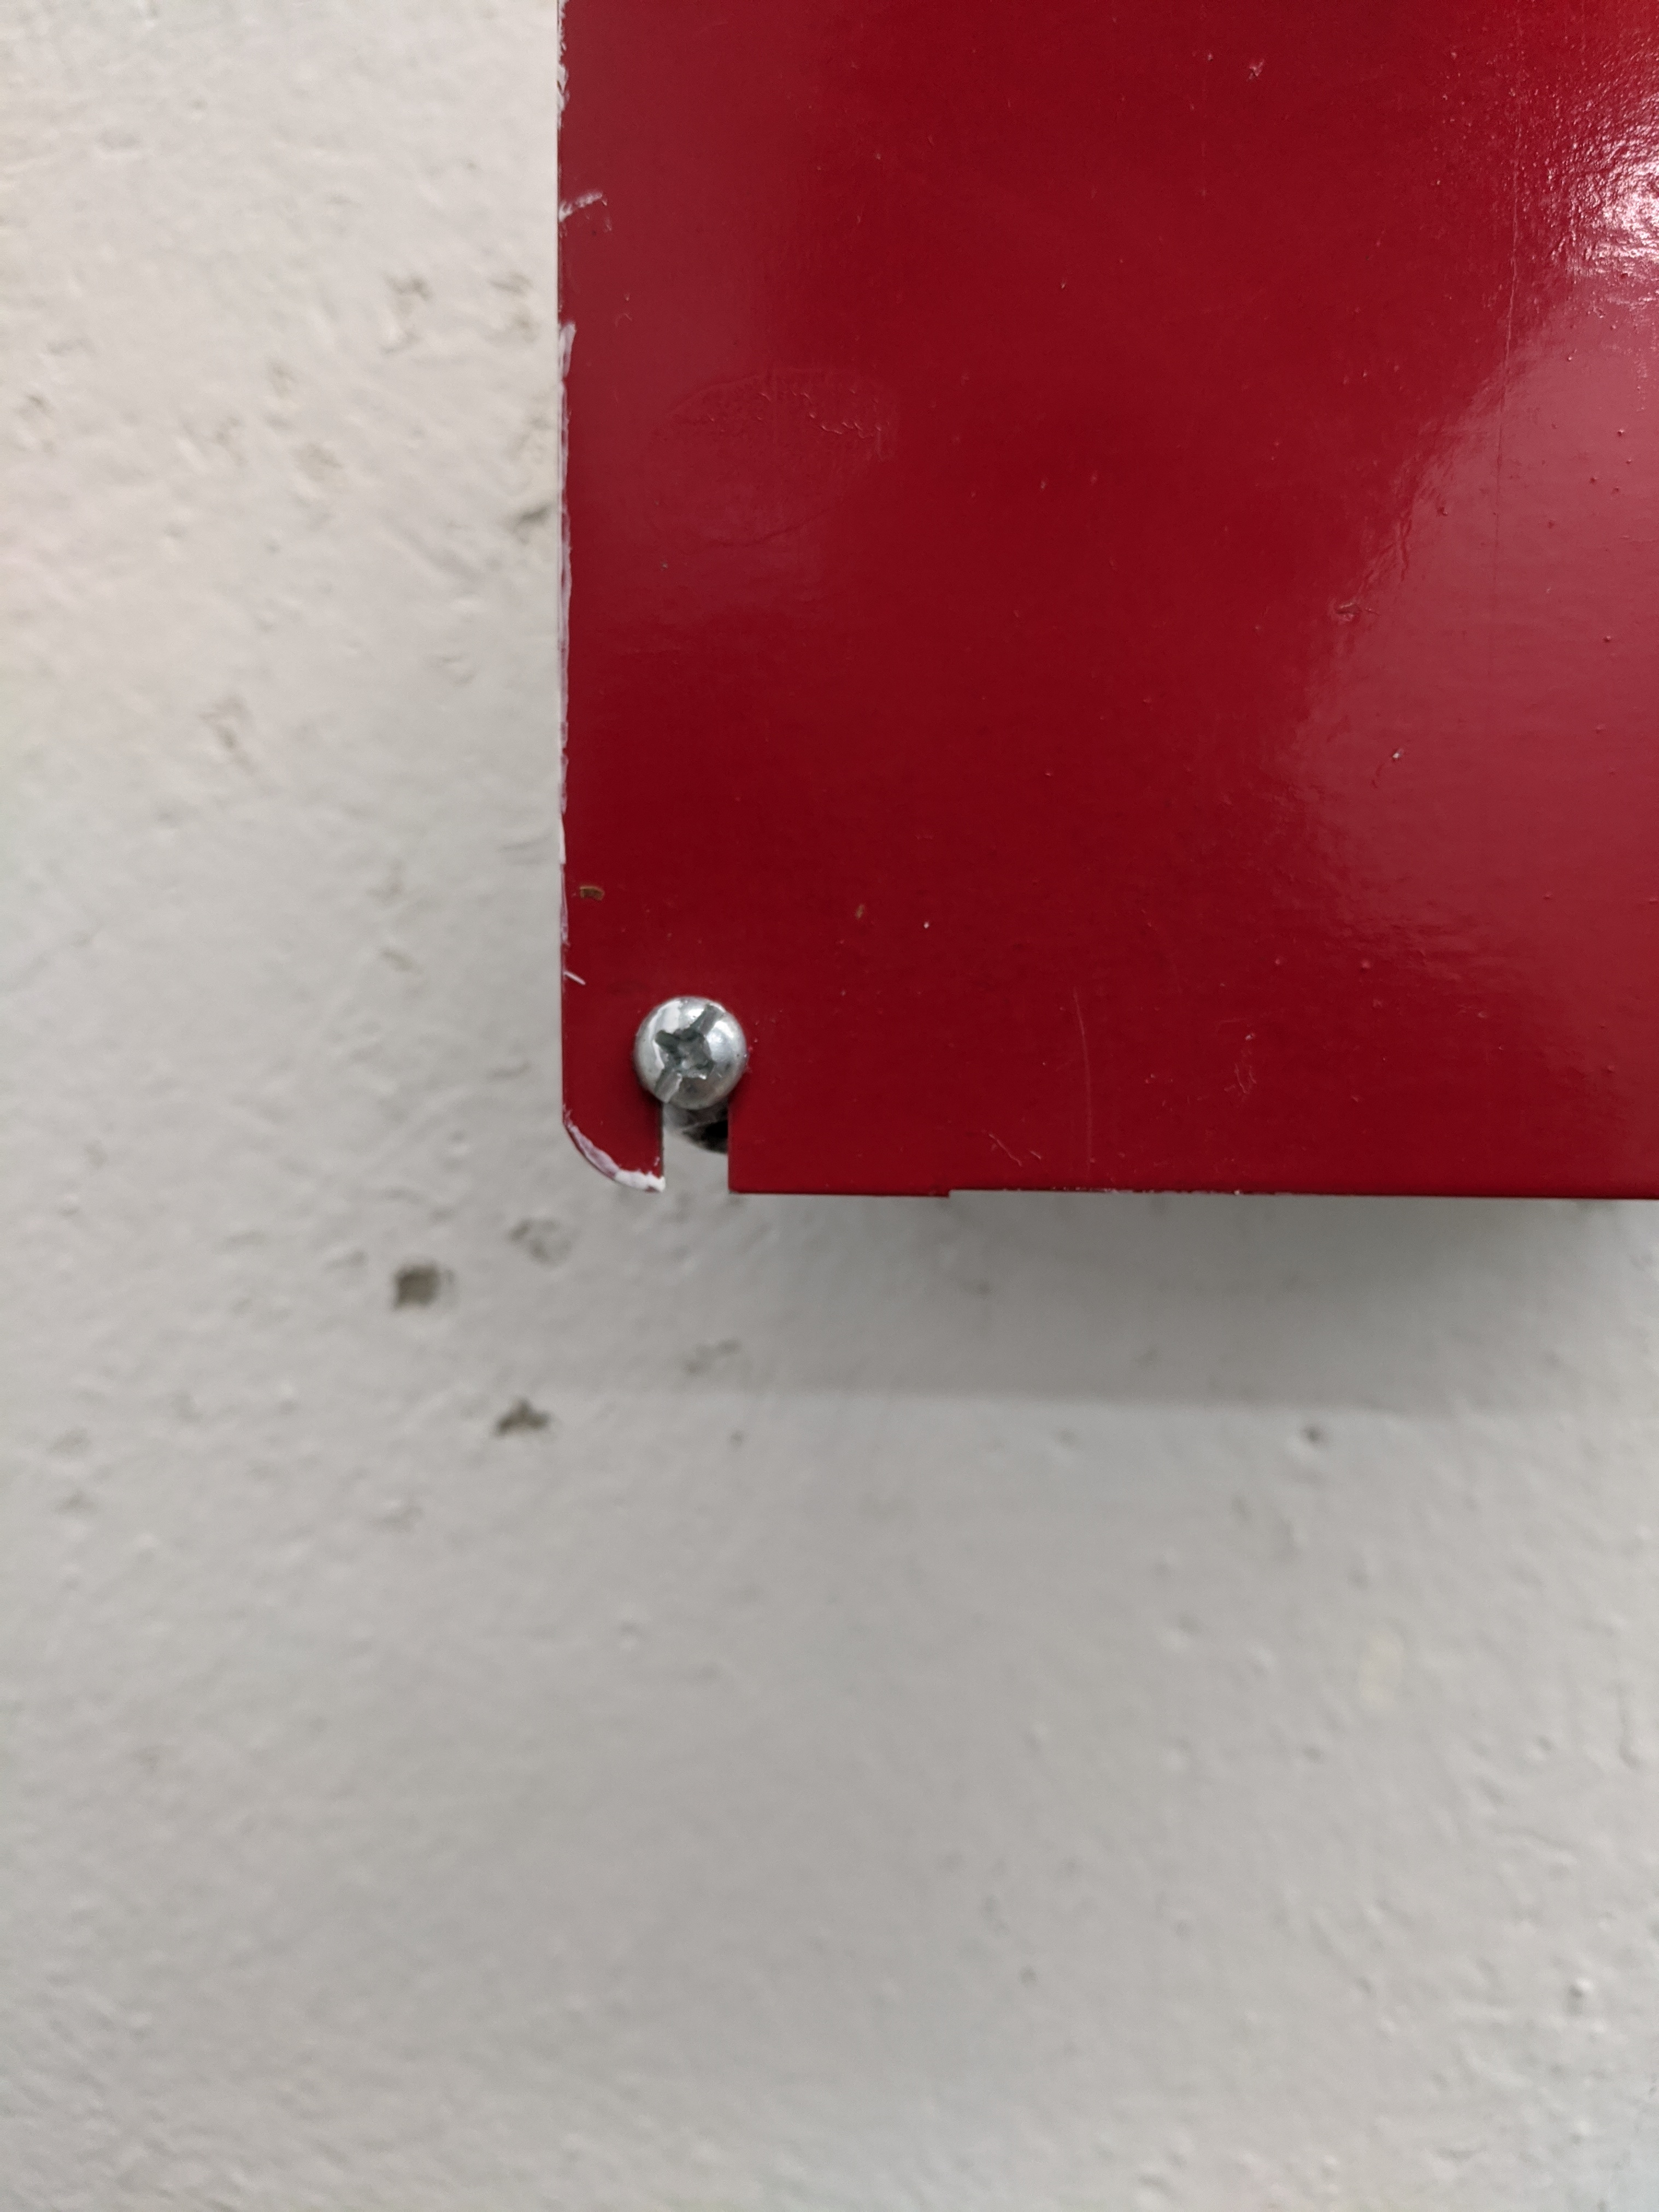cross_recessed_screw: (617, 975, 774, 1113)
